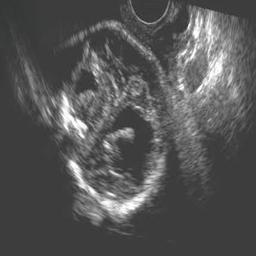abnormal: (47, 21, 177, 228)
